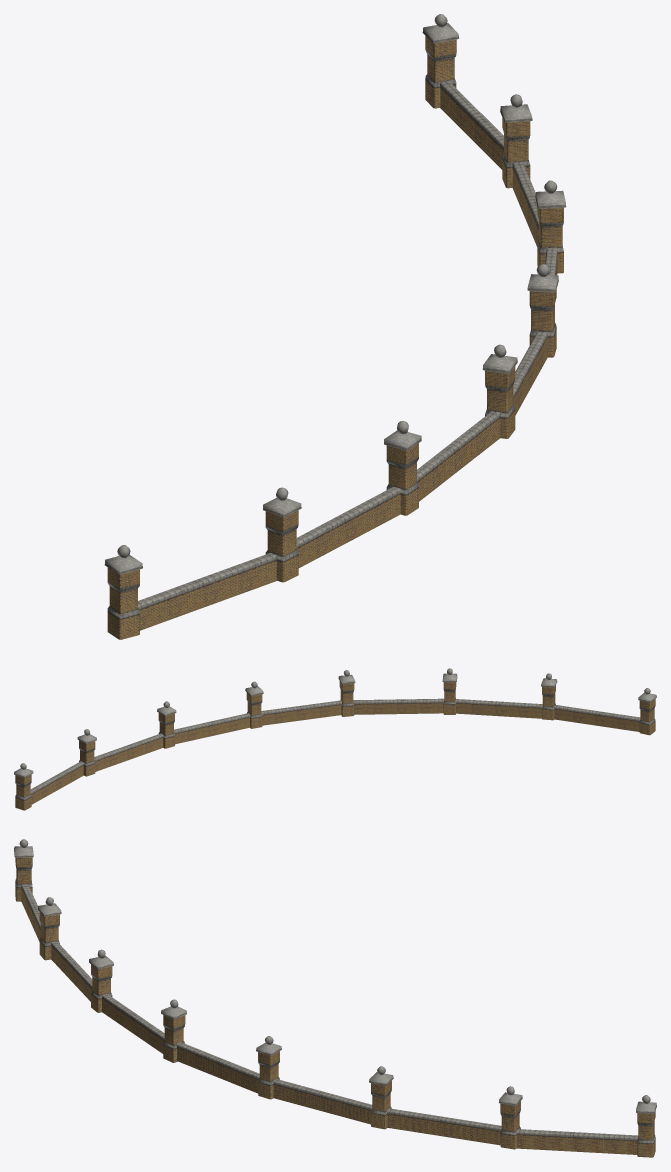
Rendered from Walls_Entrance_Right_COMBO.fbx.
3 renders of one model, top to bottom at view 1: azimuth 30°, elevation 25°; view 2: azimuth 150°, elevation 25°; view 3: azimuth 270°, elevation 25°, orthographic. The views are drawn at different scales.
Visible parts, largest first — view 1: VP_park_fence_post; view 2: VP_park_fence_post; view 3: VP_park_fence_post.
Part boxes in pixels (x1,y1,x2,y2): VP_park_fence_post: (104, 14, 566, 639); VP_park_fence_post: (14, 668, 656, 810); VP_park_fence_post: (14, 839, 656, 1157).
Bounding box in the file's own units: 42.71 × 4.47 × 43.96.
